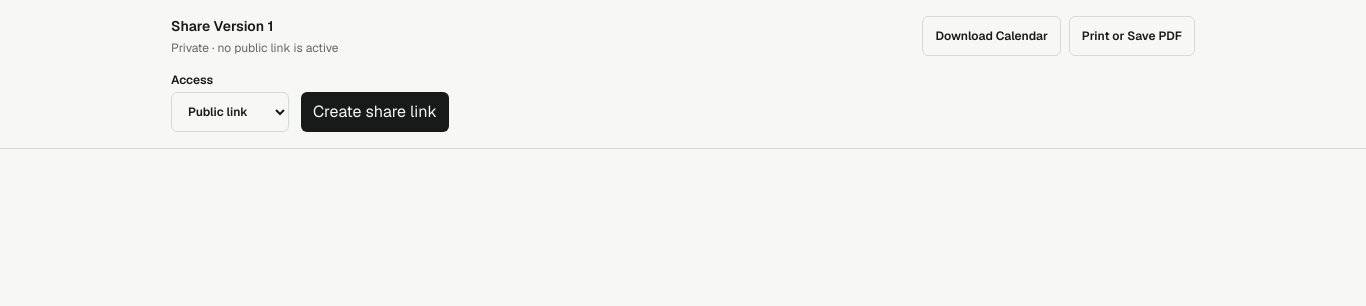
version-specific share controls › reveals a new raw link once and requires rotation when it is lost
Click the button "Create share link".
click(375, 112)  # box 301,92 -> 449,132
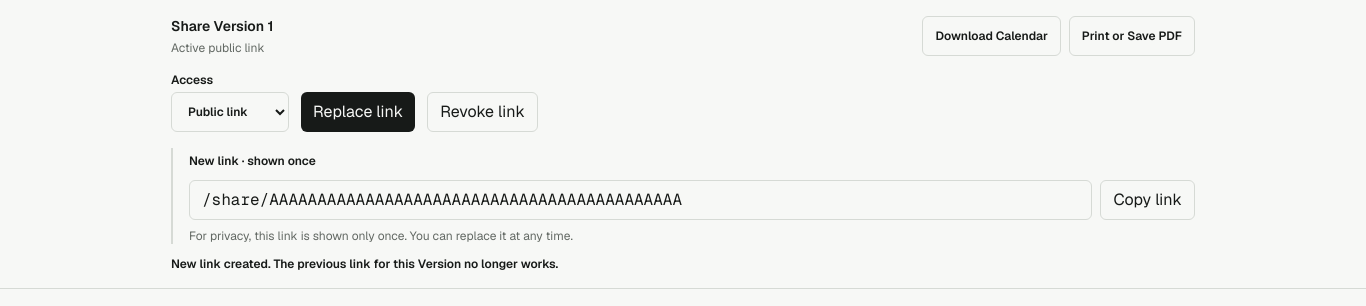
Expected: the text "New link · shown once" is shown, 189,153 -> 316,169
Expected: the text "You can replace it at any time" is shown, 189,228 -> 573,244
